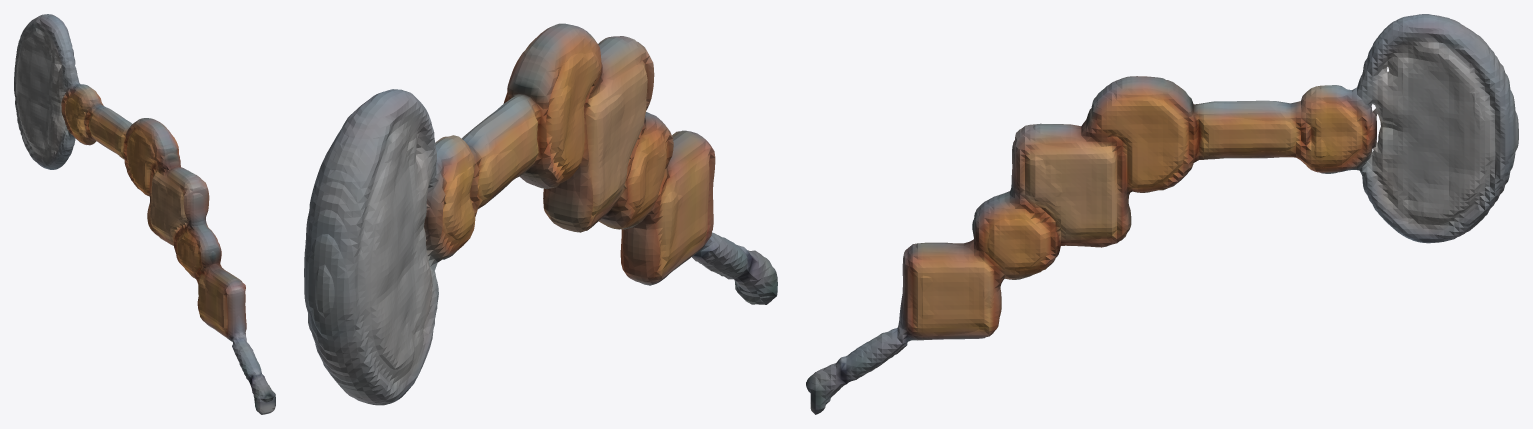
The model's file is robot_arm-triposr.glb.
3 renders of one model, left to right at view 1: azimuth 30°, elevation 25°; view 2: azimuth 150°, elevation 25°; view 3: azimuth 270°, elevation 25°, orthographic. The views are drawn at different scales.
Visible parts, largest first — view 1: world; view 2: world; view 3: world.
Part boxes in pixels (<box>): world: <box>14,14,275,414</box>; world: <box>304,23,777,405</box>; world: <box>806,14,1518,414</box>.
Bounding box in the file's own units: 0.1932 × 1.08 × 1.8.
